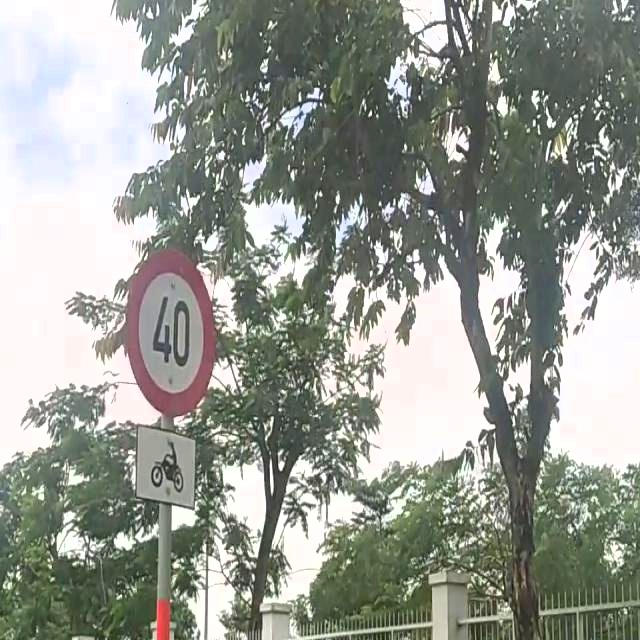P.127*40: (125, 242, 219, 426)
S.505a*Xe may: (131, 416, 203, 518)
